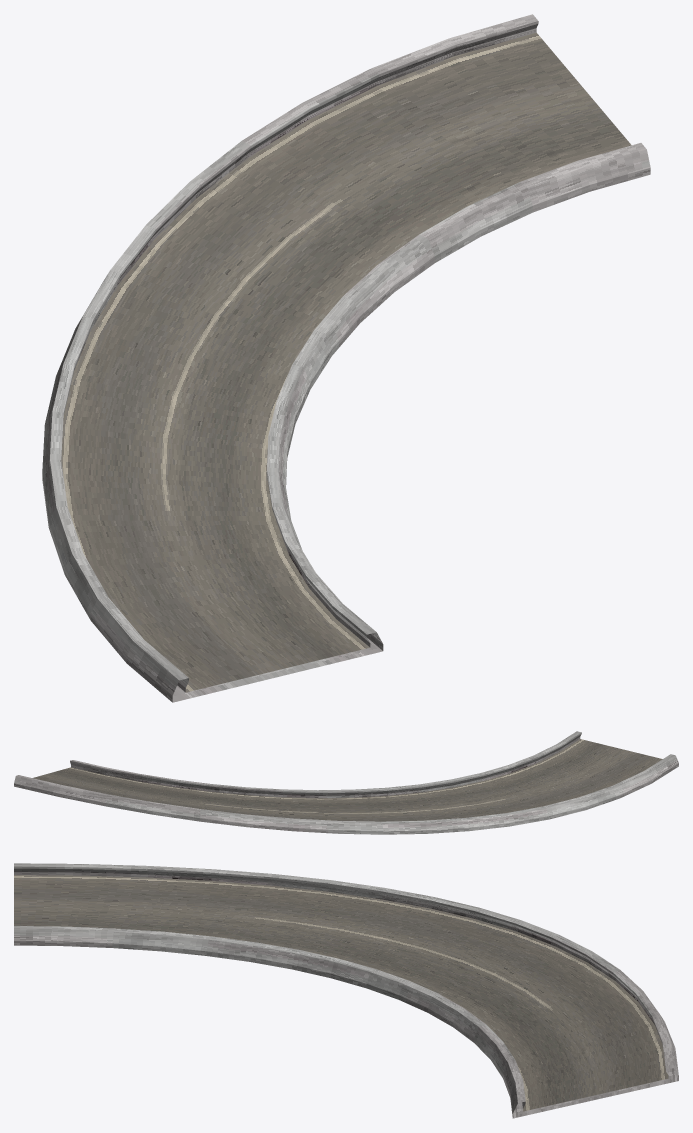
Rendered from road-Turn-Flat-HalfBankedRight-Up1-Right-Size4.glb.
3 views of the same model, one above another, from view 1: azimuth 30°, elevation 25°; view 2: azimuth 150°, elevation 25°; view 3: azimuth 270°, elevation 25° (orthographic). The views are drawn at different scales.
Parts seen in each view (by area): view 1: road-Turn-Flat-HalfBankedRight-Up1-Right-Size4; view 2: road-Turn-Flat-HalfBankedRight-Up1-Right-Size4; view 3: road-Turn-Flat-HalfBankedRight-Up1-Right-Size4.
Boxes of the visible parts, x1,y1,x2,y2 form: road-Turn-Flat-HalfBankedRight-Up1-Right-Size4: [42, 14, 650, 702]; road-Turn-Flat-HalfBankedRight-Up1-Right-Size4: [14, 731, 678, 834]; road-Turn-Flat-HalfBankedRight-Up1-Right-Size4: [14, 863, 678, 1118].
Size of the model in its own units: 4 by 0.5859 by 4.
2 materials, 2 textured.
